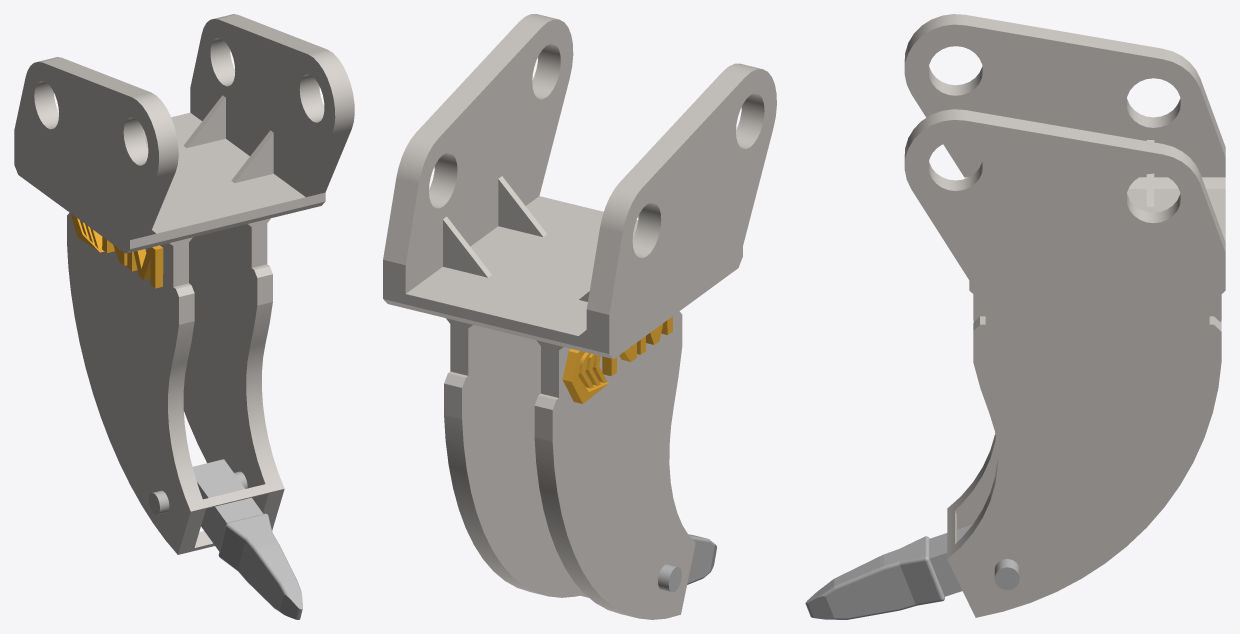
File: ripper.glb
3 views of the same model, side by side, from view 1: azimuth 30°, elevation 25°; view 2: azimuth 150°, elevation 25°; view 3: azimuth 270°, elevation 25° (orthographic). The views are drawn at different scales.
Parts seen in each view (by area): view 1: top body-1, tool head tip-1, Part3^Tool Change Ripper-1, Part2^Tool Change Ripper-1; view 2: top body-1, tool head tip-1, Part2^Tool Change Ripper-1; view 3: top body-1, tool head tip-1, Part3^Tool Change Ripper-1, Part2^Tool Change Ripper-1.
Part boxes in pixels (x1=…): top body-1: x1=14, y1=14, x2=354, y2=554; tool head tip-1: x1=218, y1=513, x2=302, y2=619; Part3^Tool Change Ripper-1: x1=192, y1=459, x2=263, y2=551; Part2^Tool Change Ripper-1: x1=148, y1=471, x2=247, y2=514; top body-1: x1=383, y1=14, x2=776, y2=619; tool head tip-1: x1=687, y1=534, x2=716, y2=584; Part2^Tool Change Ripper-1: x1=658, y1=564, x2=681, y2=592; top body-1: x1=904, y1=14, x2=1225, y2=617; tool head tip-1: x1=805, y1=536, x2=944, y2=619; Part3^Tool Change Ripper-1: x1=929, y1=524, x2=972, y2=596; Part2^Tool Change Ripper-1: x1=994, y1=559, x2=1019, y2=589.
Bounding box in the file's own units: 0.635 × 1.54 × 1.07.
